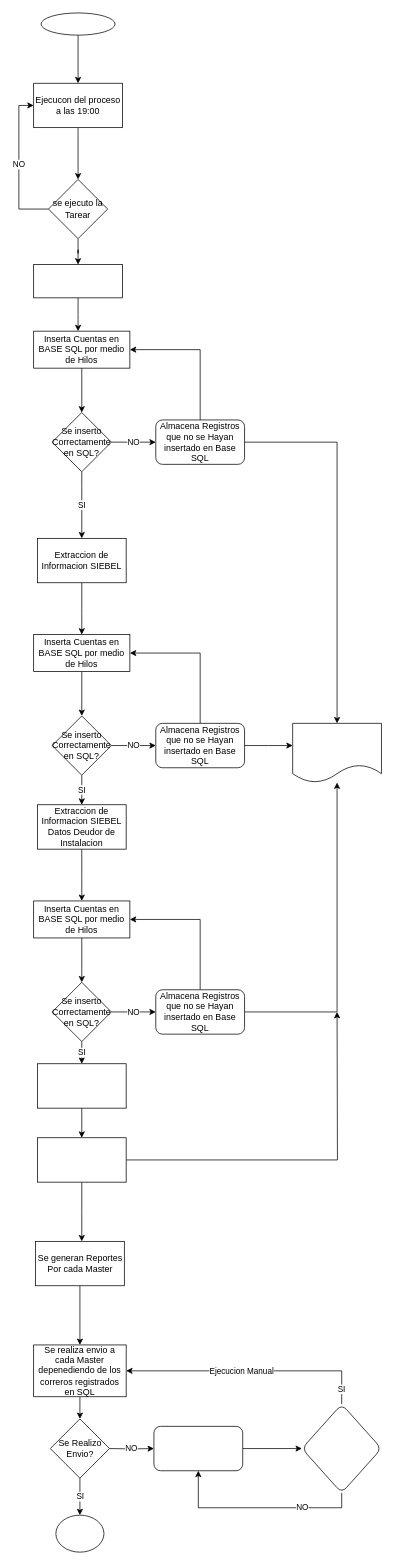
This 394x1565 diagram has some shape labels left out. The shapes that lost their labels are listed below. From the top down, each one's centre as x and y in pixels, then its label:
At (x=77, y=23): "inicio".
At (x=77, y=281): "Extraccion BRM".
At (x=336, y=753): "Se genera Registros De excepciones al insertar en base SQL".
At (x=81, y=1085): "Update del Identificador en SQL".
At (x=81, y=1159): "Crear Reportes por cada deudor".
At (x=198, y=1448): "Se debe de Revisar el flujo del proceso y Datos en la Base".
At (x=341, y=1448): "Los datos estan Completos y correctamente llenados?".
At (x=79, y=1533): "FIN".
